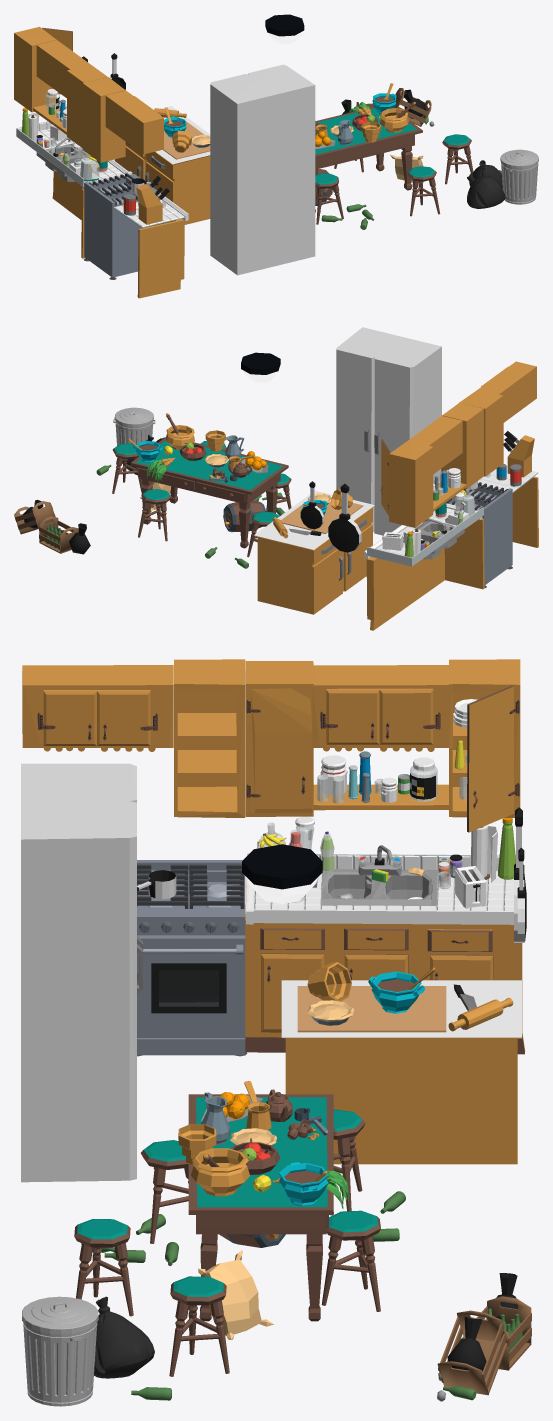
Rendered from room 4.glb.
3 views of the same model, one above another, from view 1: azimuth 30°, elevation 25°; view 2: azimuth 150°, elevation 25°; view 3: azimuth 270°, elevation 25° (orthographic). The views are drawn at different scales.
Parts seen in each view (by area): view 1: fridge, kitchen, island, group1807070750.001, table, group1444541935.001, group389376729.001, group389376729, Garbage_Bin, group1444541935, group127103481, TrashBag_2 (+16 smaller); view 2: fridge, island, group1807070750, table, group389376729, kitchen, group127103481, group1444541935.001, group389376729.001, group1444541935, group1807070750.001, Garbage_Bin (+20 smaller); view 3: fridge, island, group1807070750, group389376729.001, appliance_oven_door_Cube.275, group127103481, table, kitchen, Garbage_Bin, group1444541935.001, group824779890, group1444541935 (+37 smaller).
Part boxes in pixels (box(x1,y1,x2,y2)): fridge: box(210, 64, 315, 275); kitchen: box(84, 173, 160, 279); island: box(114, 106, 210, 224); group1807070750.001: box(137, 218, 184, 298); table: box(315, 107, 422, 169); group1444541935.001: box(105, 90, 163, 154); group389376729.001: box(82, 77, 125, 162); group389376729: box(14, 26, 56, 112); Garbage_Bin: box(500, 149, 538, 204); group1444541935: box(36, 40, 90, 97); group127103481: box(67, 64, 107, 147); TrashBag_2: box(467, 160, 505, 208); fridge: box(336, 327, 441, 535); island: box(254, 490, 374, 614); group1807070750: box(366, 518, 484, 630); table: box(130, 437, 288, 504); group389376729: box(389, 440, 433, 527); kitchen: box(446, 482, 512, 587); group127103481: box(441, 402, 483, 488); group1444541935.001: box(478, 361, 536, 422); group389376729.001: box(459, 389, 503, 476); group1444541935: box(408, 415, 462, 473); group1807070750.001: box(512, 476, 538, 547); Garbage_Bin: box(113, 407, 155, 445); fridge: box(21, 763, 136, 1182); island: box(281, 980, 521, 1164); group1807070750: box(245, 879, 525, 1054); group389376729.001: box(174, 659, 245, 817); appliance_oven_door_Cube.275: box(137, 935, 245, 1037); group127103481: box(245, 661, 313, 816); table: box(188, 1094, 333, 1234); kitchen: box(137, 860, 247, 1056); Garbage_Bin: box(22, 1296, 98, 1406); group1444541935.001: box(22, 665, 173, 751); group824779890: box(467, 685, 515, 832); group1444541935: box(312, 665, 452, 751).
Bounding box in the file's own units: 2.51 × 1.06 × 1.37.
Materials: 54 (4 with a texture image).
